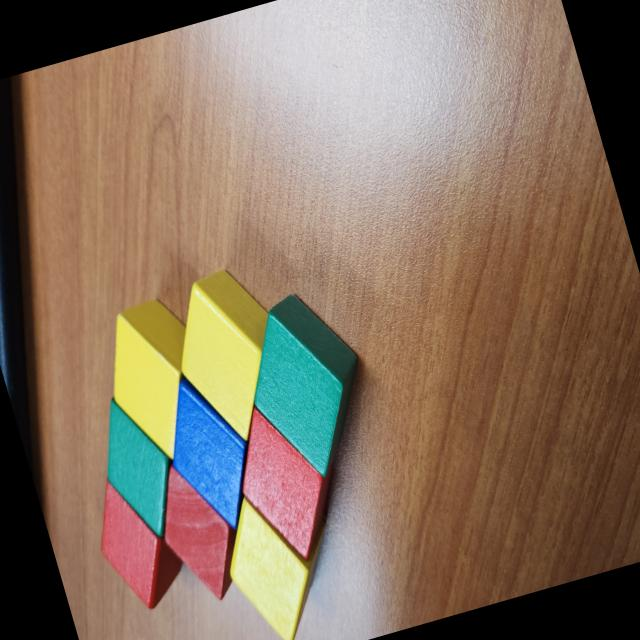blue: (173, 375, 249, 530)
green: (226, 282, 388, 495), (85, 384, 193, 548)
red: (81, 462, 196, 618), (243, 408, 332, 558), (165, 464, 236, 599)
yellow: (181, 269, 269, 441), (229, 499, 321, 640), (113, 299, 186, 461)
